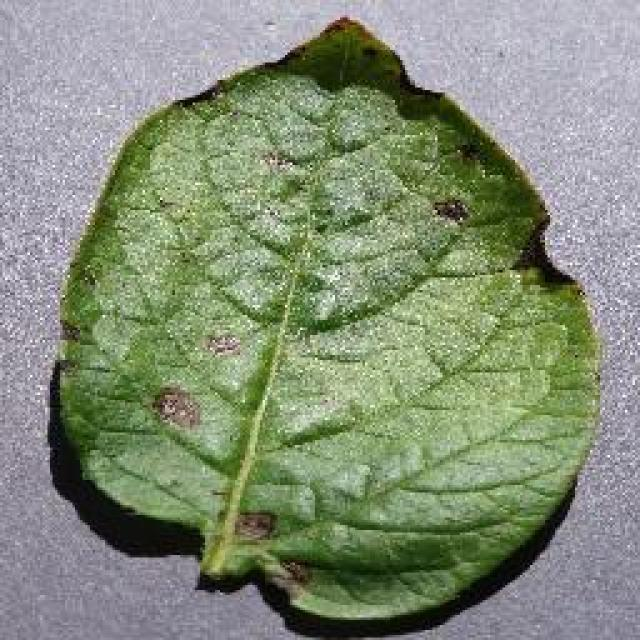early_blight: (50, 15, 608, 637)
